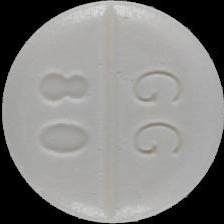0781-1446: (0, 0, 224, 224)
